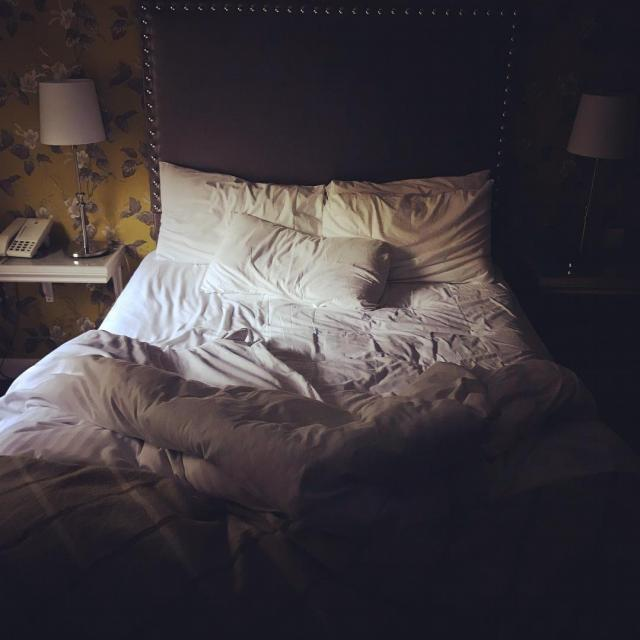bed: (10, 152, 533, 607)
